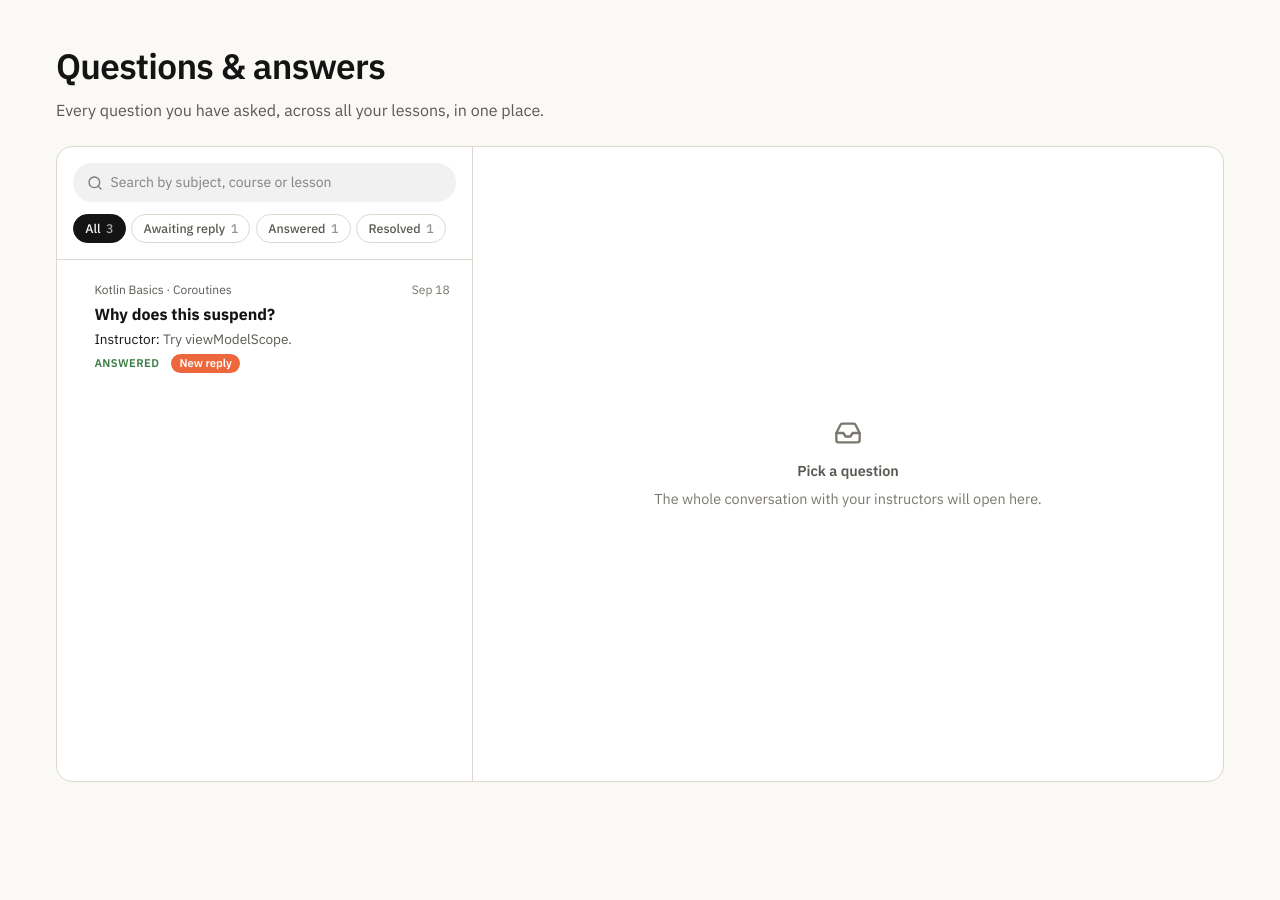
Test case: QuestionsView › offers to clear filters when nothing matches them
Expected: the text "Why does this suspend?" is shown, [94,304,275,324]
Click the button "Resolved 1": (401, 228) [356,214,446,243]
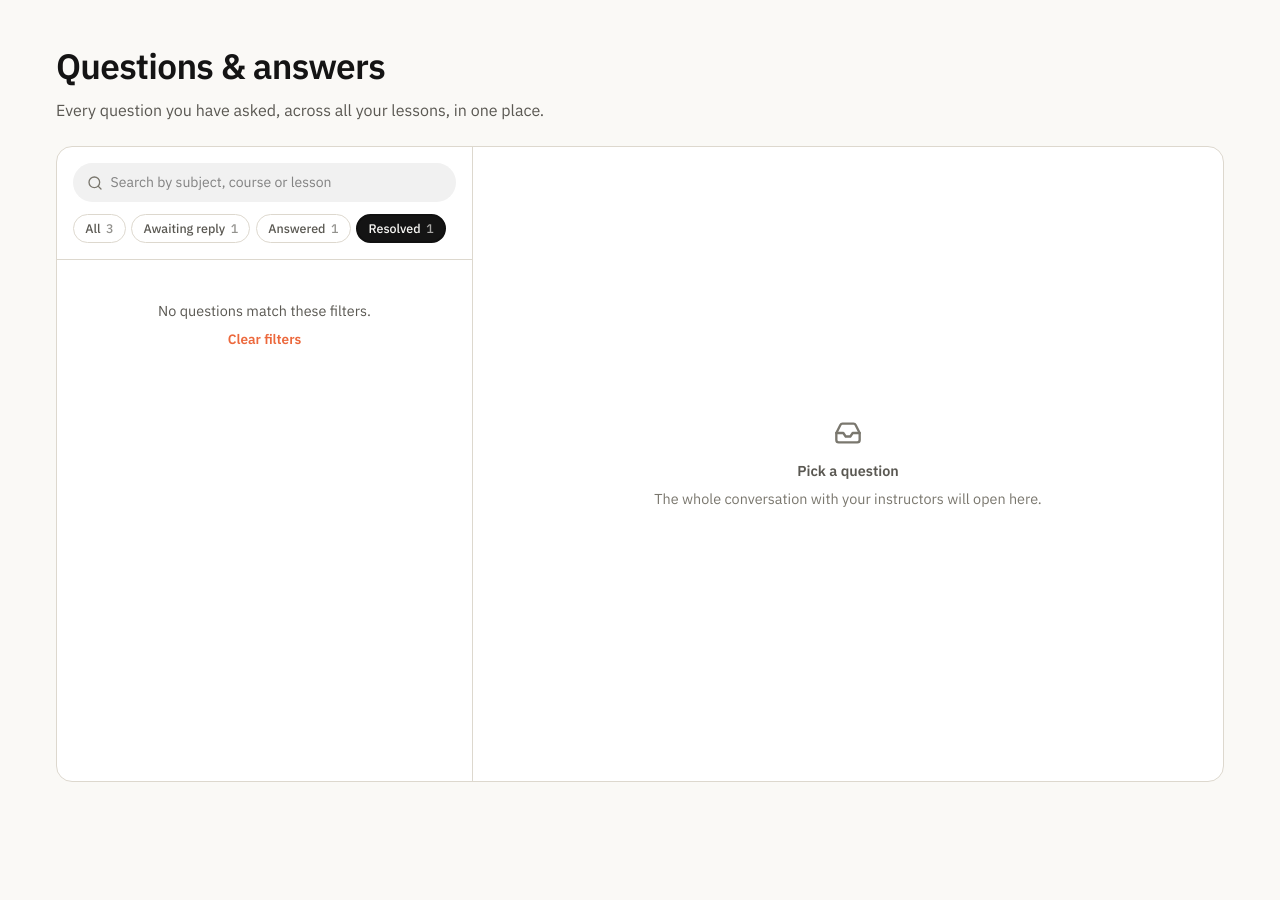
Now the text "No questions match these filters." is shown, box [158,300,371,321]
Click the button "Clear filters": (264, 340) [228,329,301,350]
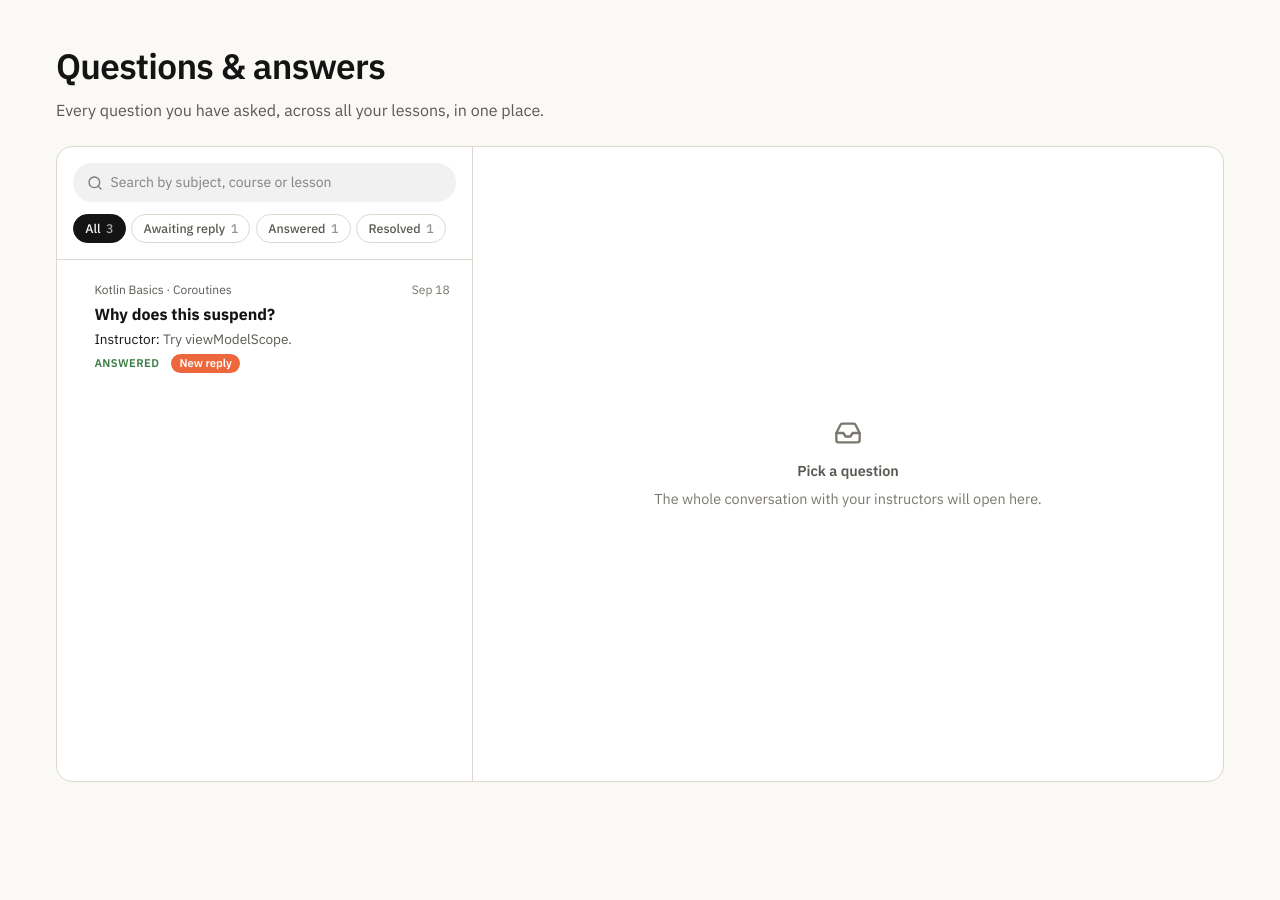
Now the text "Why does this suspend?" is shown, box [94,304,275,324]
